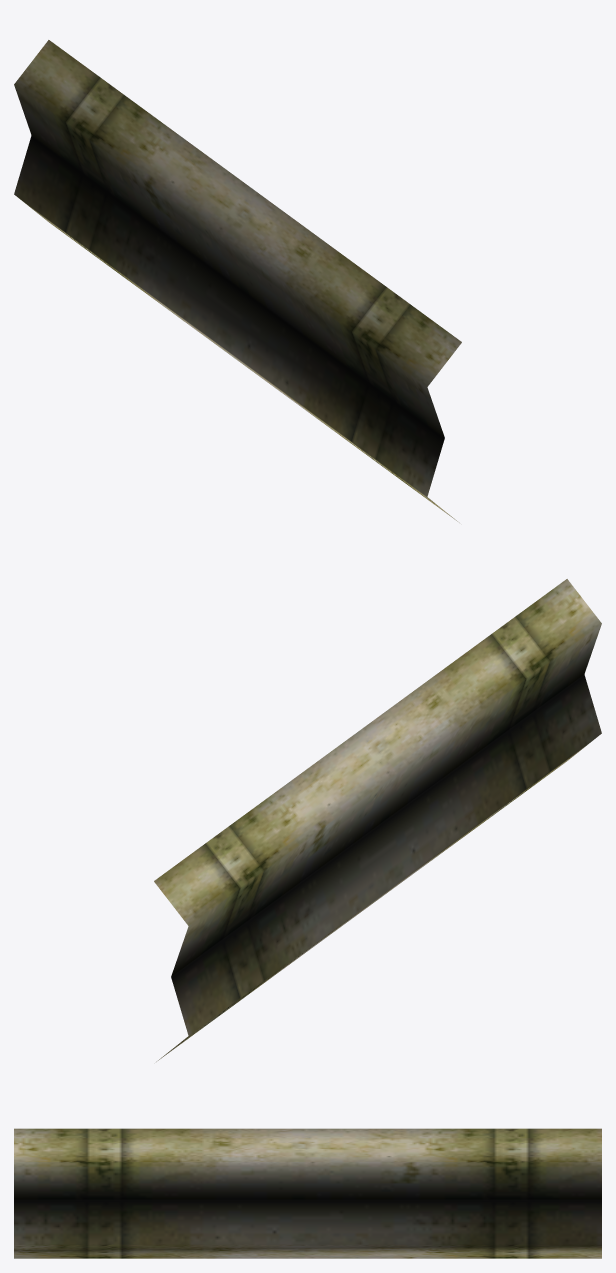
The model's file is M11B_BigPipes02.glb.
3 renders of one model, top to bottom at view 1: azimuth 30°, elevation 25°; view 2: azimuth 150°, elevation 25°; view 3: azimuth 270°, elevation 25°, orthographic. The views are drawn at different scales.
Parts seen in each view (by area): view 1: M11B_BIGPIPES02; view 2: M11B_BIGPIPES02; view 3: M11B_BIGPIPES02.
Part boxes in pixels (bbox=[...]): M11B_BIGPIPES02: bbox=[14, 40, 461, 522]; M11B_BIGPIPES02: bbox=[154, 579, 601, 1061]; M11B_BIGPIPES02: bbox=[14, 1128, 601, 1258].
Size of the model in its own units: 0.707 by 0.707 by 2.9.
Materials: 1 (1 with a texture image).
